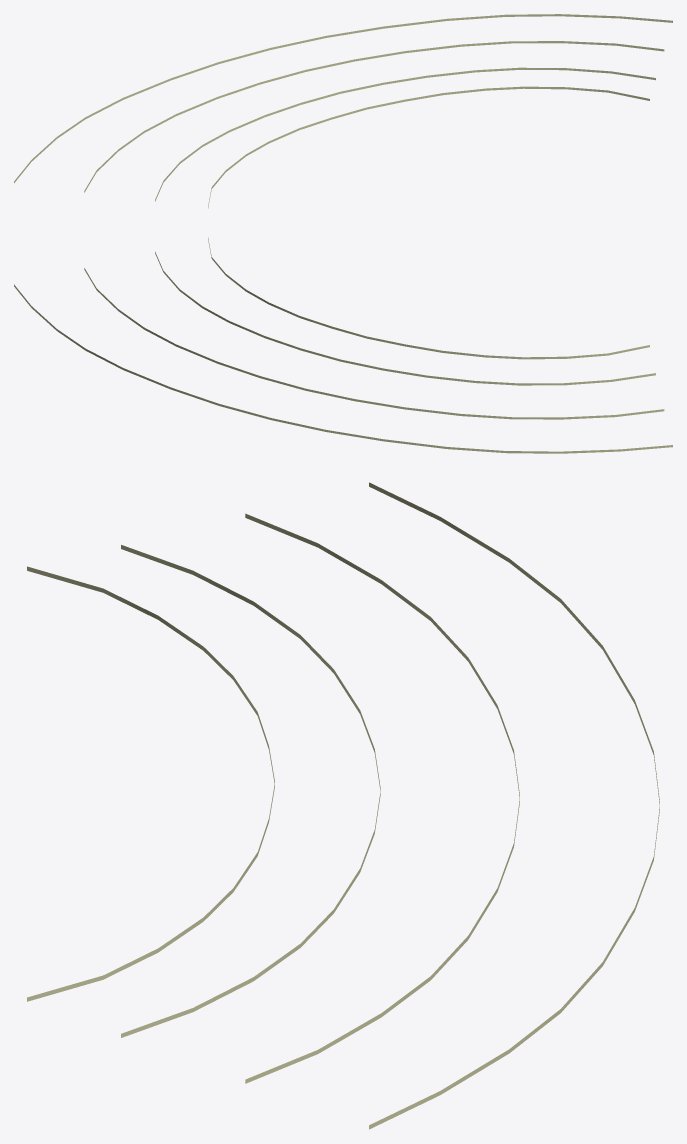
The model's file is ULT_Ceiling_Lit.FBX.
3 views of the same model, one above another, from view 1: azimuth 30°, elevation 25°; view 2: azimuth 150°, elevation 25°; view 3: azimuth 270°, elevation 25° (orthographic). The views are drawn at different scales.
Visible parts, largest first — view 1: ULT_Ceiling_Lit; view 2: ULT_Ceiling_Lit; view 3: ULT_Ceiling_Lit.
Boxes of the visible parts, x1,y1,x2,y2 form: ULT_Ceiling_Lit: [14, 14, 672, 208]; ULT_Ceiling_Lit: [14, 237, 672, 453]; ULT_Ceiling_Lit: [27, 482, 659, 1129].
Bounding box in the file's own units: 33010 × 627 × 13735.
